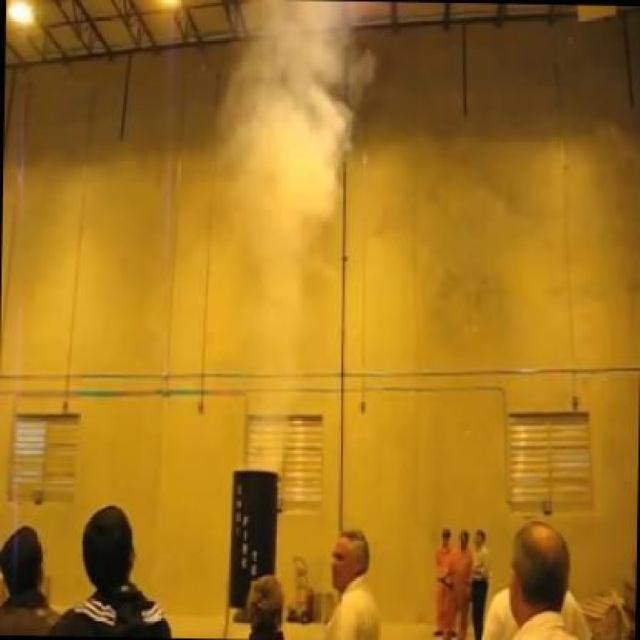fire: (198, 9, 367, 442)
